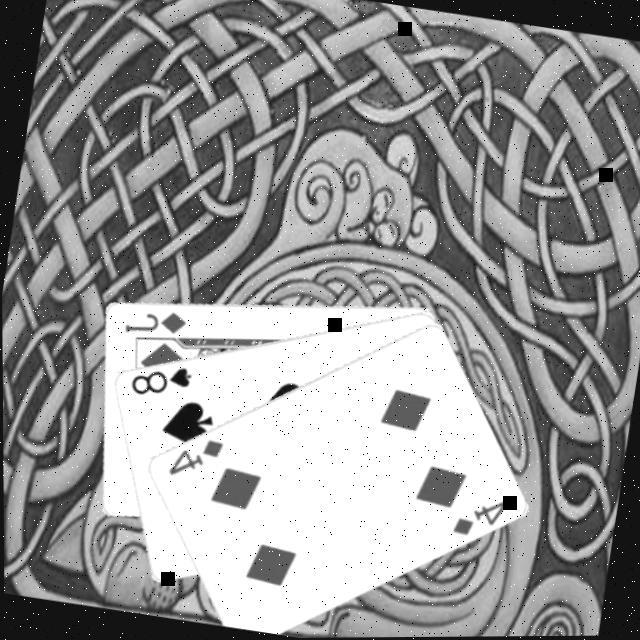4D: (447, 489, 512, 544), (165, 429, 228, 485)
8S: (127, 355, 197, 405)
JD: (122, 300, 192, 343)
